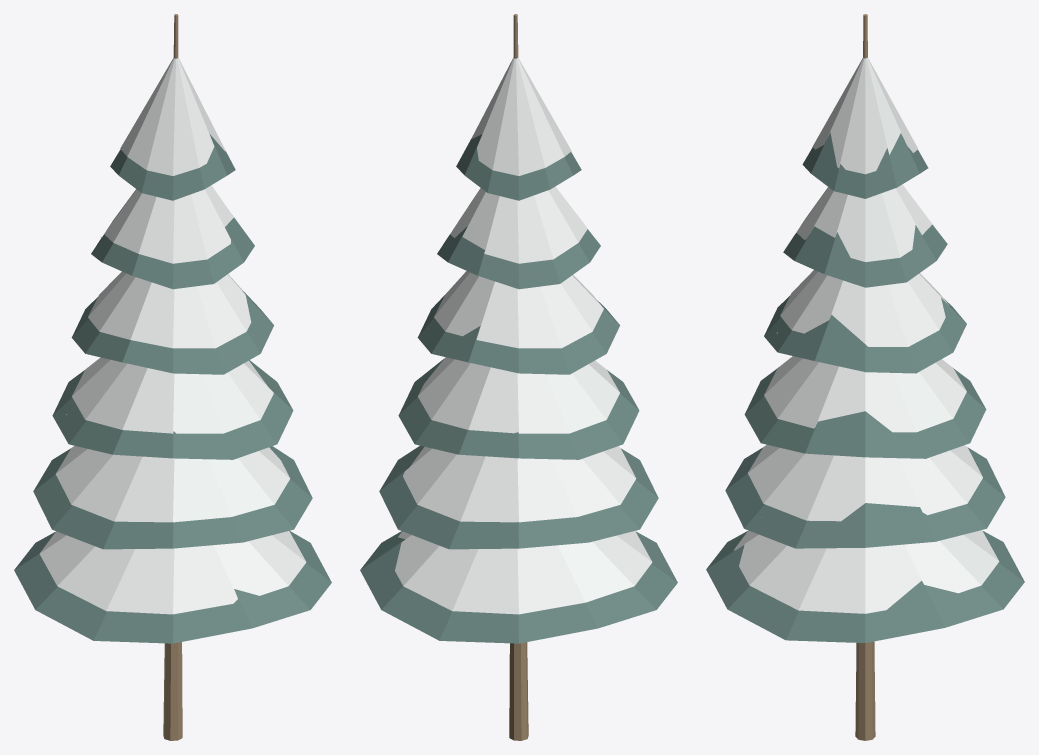
Rendered from snow-fir-2.glb.
3 views of the same model, side by side, from view 1: azimuth 30°, elevation 25°; view 2: azimuth 150°, elevation 25°; view 3: azimuth 270°, elevation 25° (orthographic).
Bounding box in the file's own units: 10.15 × 25.4 × 10.15.
